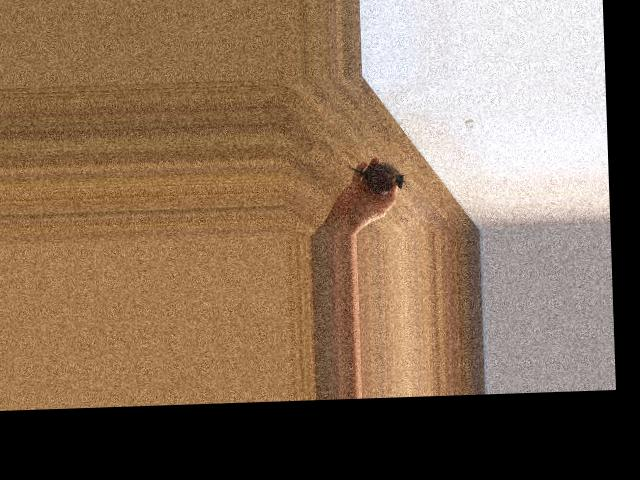beet: (348, 160, 404, 195)
